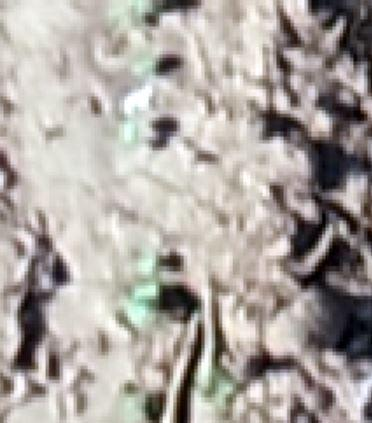cotton: (135, 283, 161, 302), (138, 252, 160, 270), (132, 56, 155, 72), (124, 122, 140, 144), (134, 1, 157, 11)
